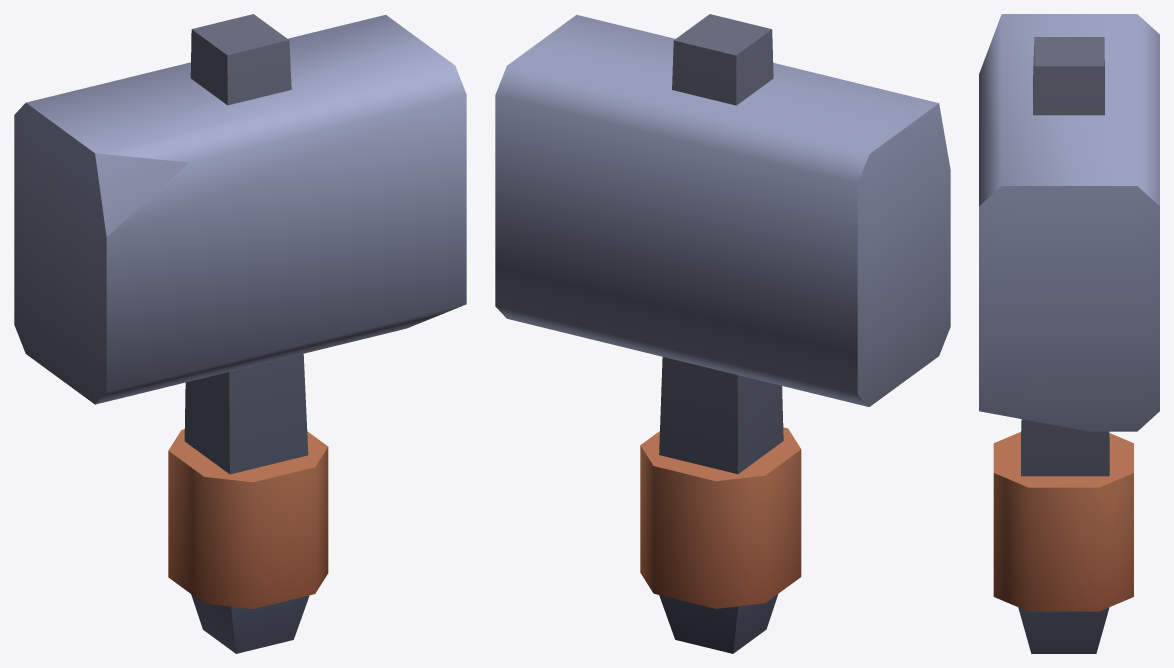
Rendered from tool-hammer-upgraded.glb.
3 renders of one model, left to right at view 1: azimuth 30°, elevation 25°; view 2: azimuth 150°, elevation 25°; view 3: azimuth 270°, elevation 25°, orthographic. The views are drawn at different scales.
Parts seen in each view (by area): view 1: tool-hammer-upgraded; view 2: tool-hammer-upgraded; view 3: tool-hammer-upgraded.
Part boxes in pixels (x1=…): tool-hammer-upgraded: x1=14, y1=14, x2=466, y2=653; tool-hammer-upgraded: x1=495, y1=14, x2=950, y2=653; tool-hammer-upgraded: x1=979, y1=14, x2=1159, y2=653.
Size of the model in its own units: 0.1161 by 0.1846 by 0.0516.
